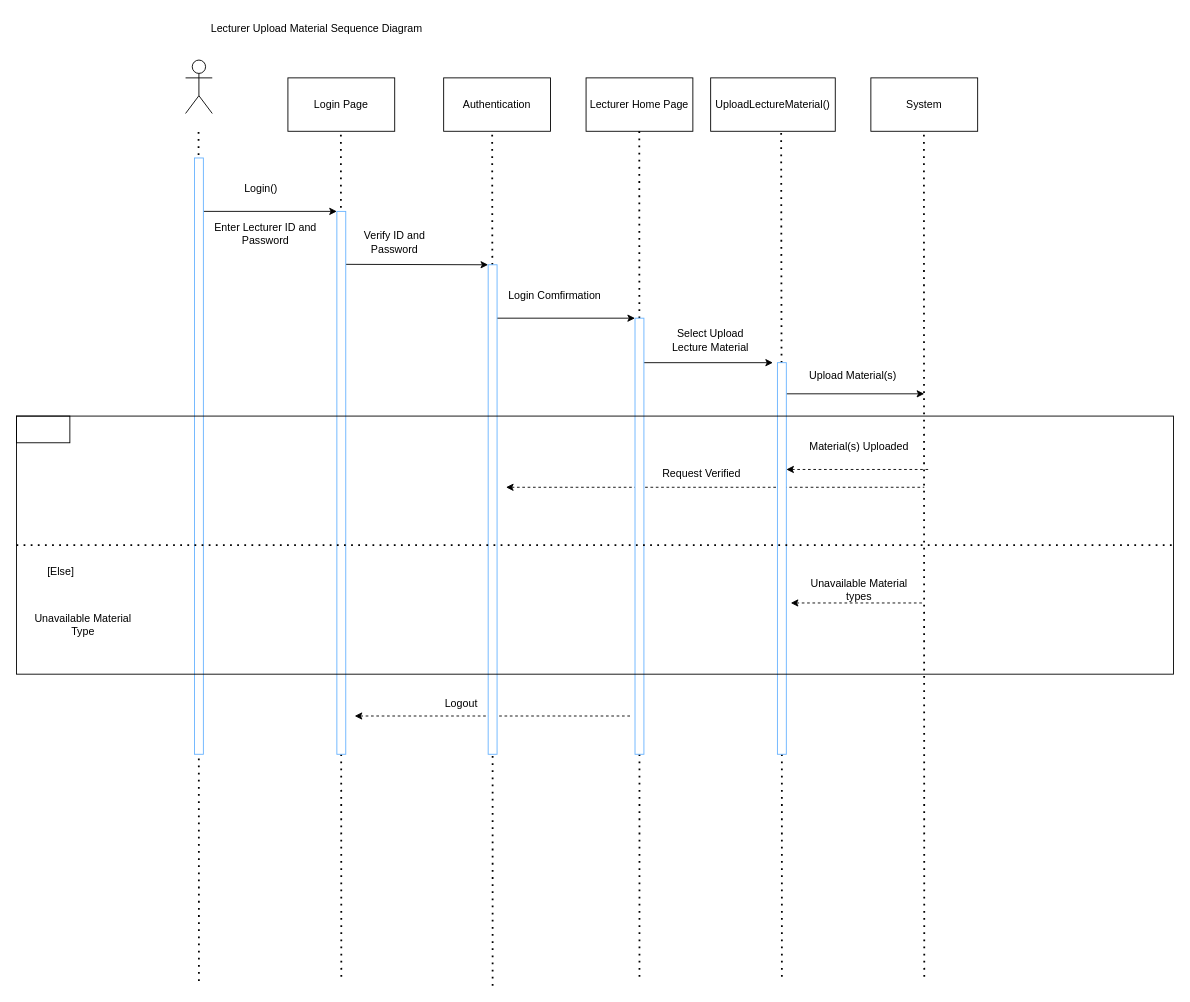
Image size: 1190x1002. Some labels were removed from this diagram. The centre of each missing label's shape, as x and y in pixels:
Alternative: pixel 43 429
Lecturer: pixel 198 86
